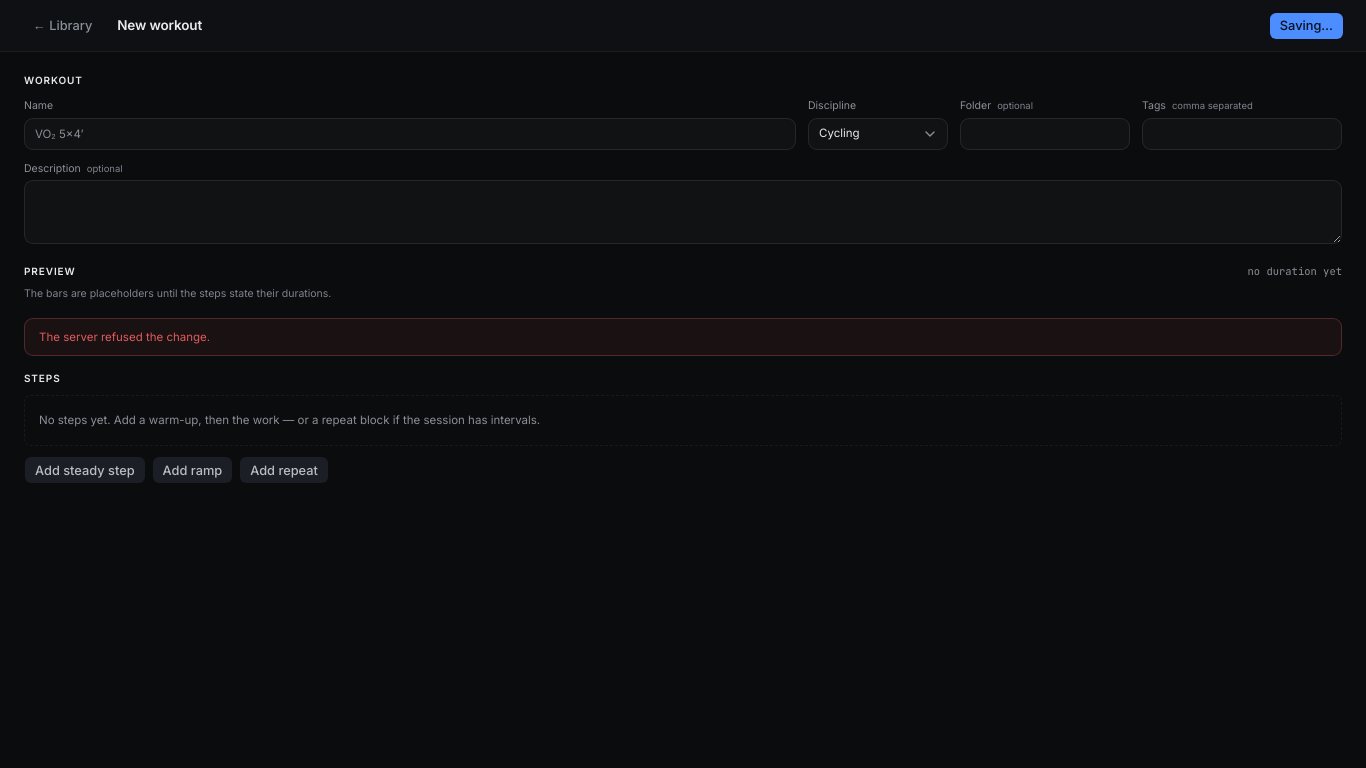
Scenario: leaving an unsaved draft › asks before the Library link throws a draft away
In the field labelled "Name": [410, 134] box [24, 118, 796, 150], type "Threshold"
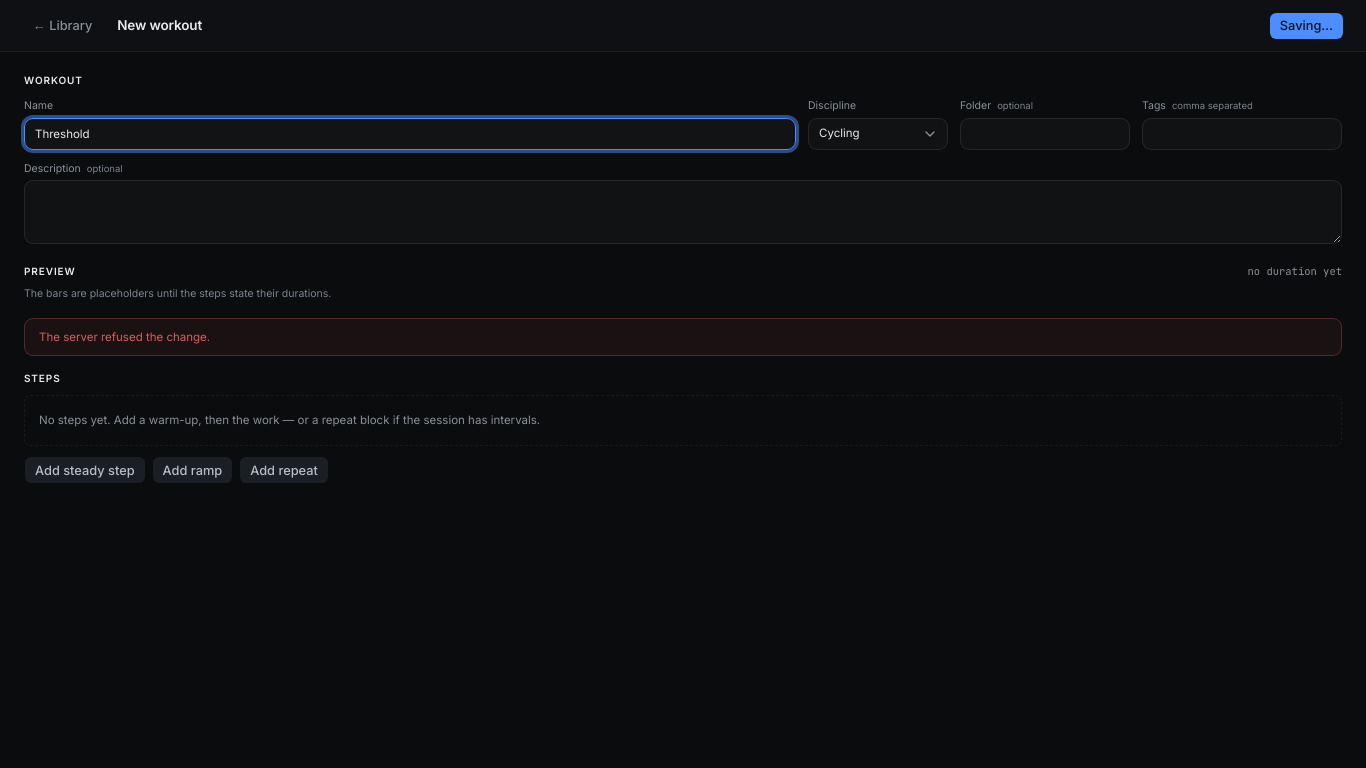
Click the link "← Library": [63, 25] box [33, 18, 92, 33]
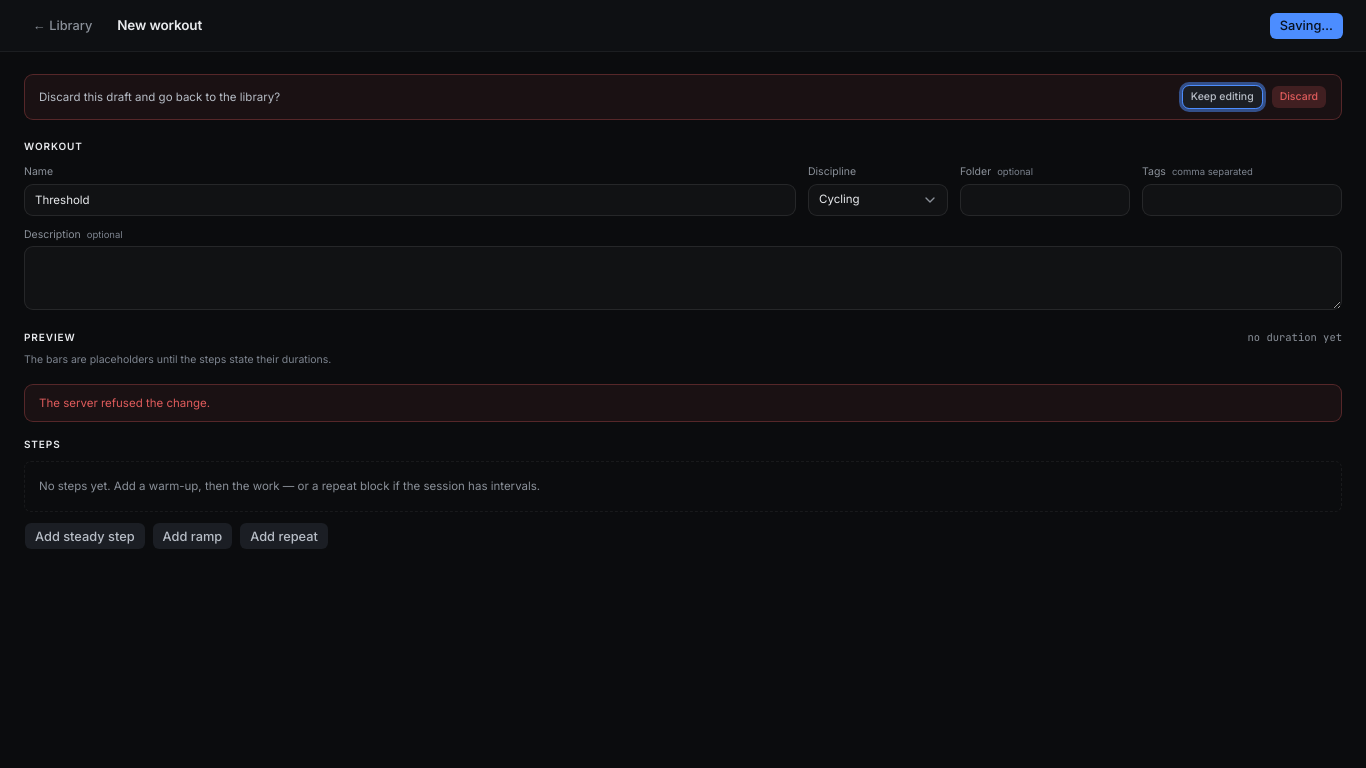
Now the dialog "Discard this draft and go back to the library?" is shown, box [24, 74, 1342, 120]
Click the button "Keep editing": [1222, 97] box [1182, 85, 1263, 109]
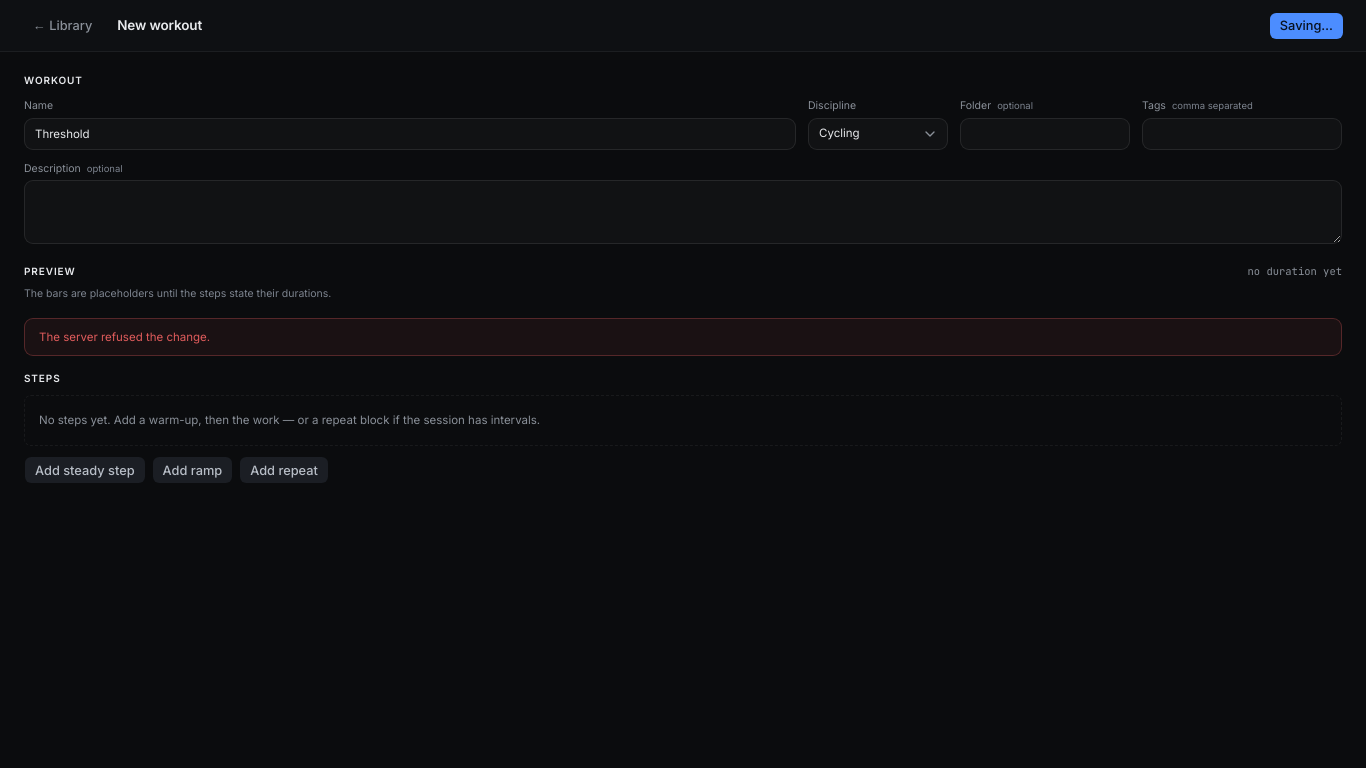
Now the dialog is gone
